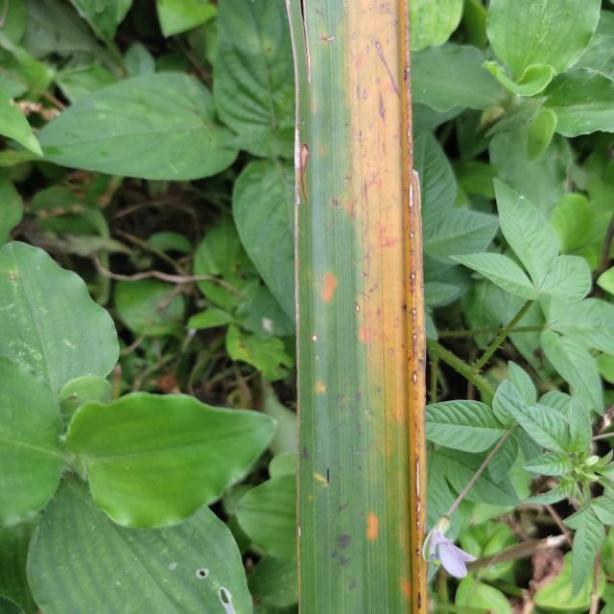Megnesium: (288, 0, 427, 614)
